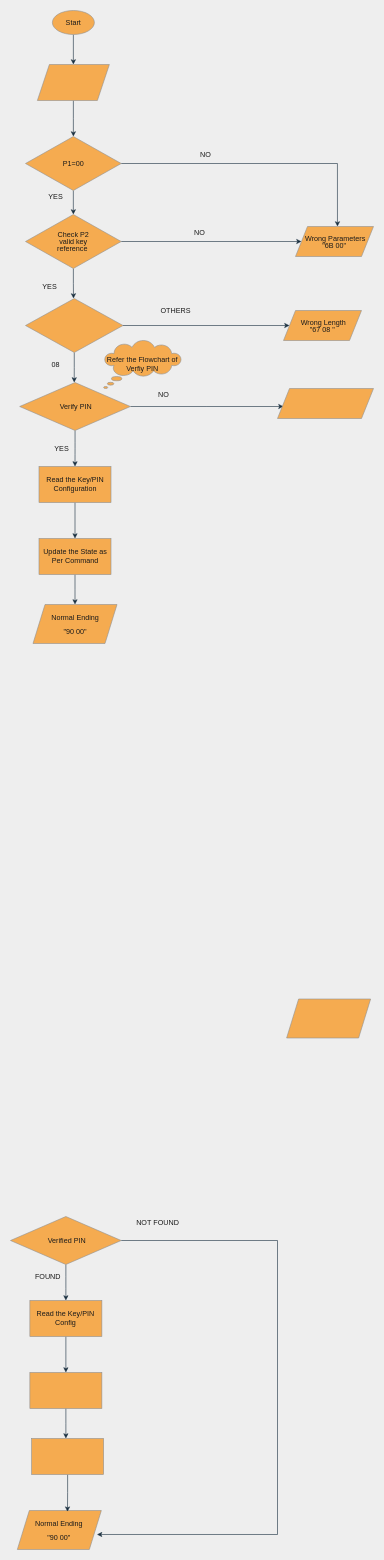
Some shapes in this 384 by 1560 pixel diagram are drawn without their labels. Here are the shapes that lost their labels. From the top down, the centre of each, then its label:
[73,82]: Enable/Disable PIN
[74,325]: P3
[325,403]: Status Words as per Verify PIN function
[328,1018]: PIN Verification Failed "63 CX"
[65,1390]: Update the New PIN State
[67,1456]: Update the Key/PIN Config ,After changing PIN State
